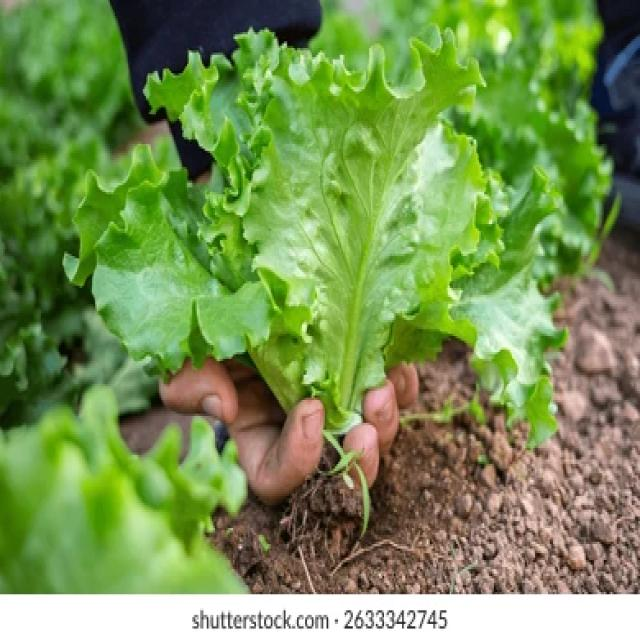inmadura: (64, 25, 563, 443)
